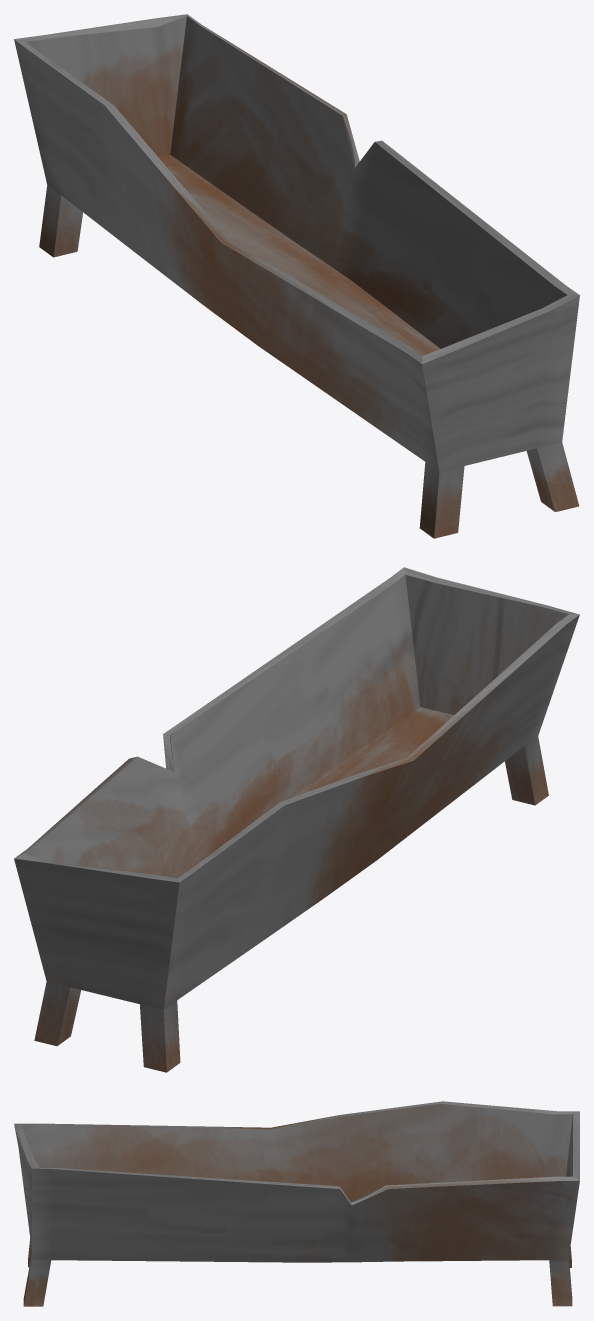
File: trough.fbx
The picture shows the model from 3 angles, top to bottom: view 1: azimuth 30°, elevation 25°; view 2: azimuth 150°, elevation 25°; view 3: azimuth 270°, elevation 25°; orthographic projection. The views are drawn at different scales.
Parts seen in each view (by area): view 1: pCube1; view 2: pCube1; view 3: pCube1.
Boxes of the visible parts, x1,y1,x2,y2 form: pCube1: [14, 14, 579, 538]; pCube1: [14, 567, 579, 1072]; pCube1: [14, 1101, 579, 1306].
Size of the model in its own units: 1.72 by 1.7 by 5.84.
